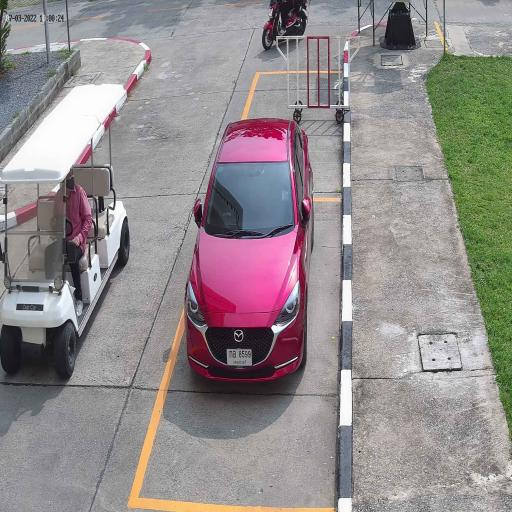car: (0, 80, 132, 382), (184, 115, 316, 386)
motorcycle: (261, 0, 309, 54)
